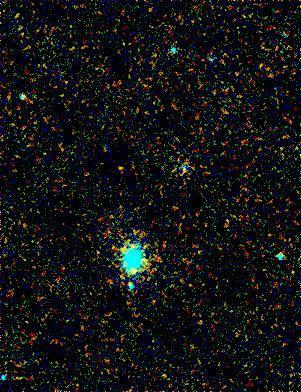star: (102, 156, 132, 186)
